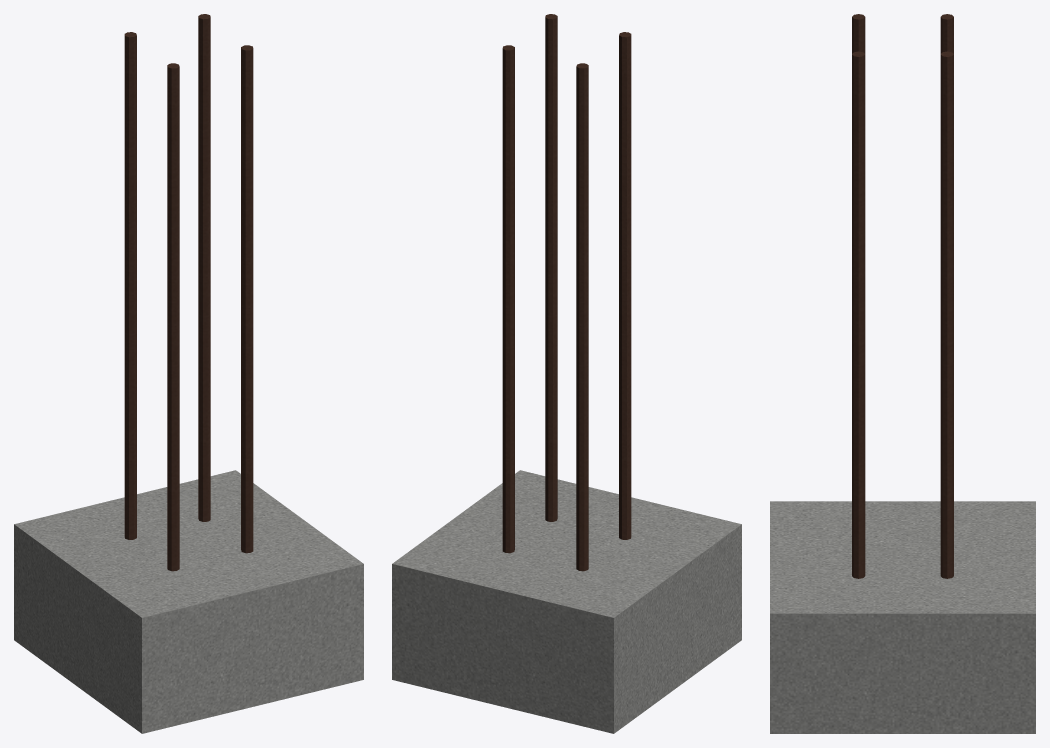
Rendered from estate_pillar_1b.glb.
3 renders of one model, left to right at view 1: azimuth 30°, elevation 25°; view 2: azimuth 150°, elevation 25°; view 3: azimuth 270°, elevation 25°, orthographic. The views are drawn at different scales.
Visible parts, largest first — view 1: Cube, Cylinder, Cylinder.002, Cylinder.003, Cylinder.001; view 2: Cube, Cylinder.001, Cylinder.003, Cylinder.002, Cylinder; view 3: Cube, Cylinder.002, Cylinder.003, Cylinder, Cylinder.001.
Boxes of the visible parts, left/top/right/bottom form: Cube: left=14, top=470, right=363, bottom=733; Cylinder: left=167, top=63, right=179, bottom=571; Cylinder.002: left=241, top=45, right=253, bottom=553; Cylinder.003: left=198, top=14, right=210, bottom=521; Cylinder.001: left=124, top=32, right=136, bottom=539; Cube: left=392, top=470, right=741, bottom=733; Cylinder.001: left=576, top=63, right=588, bottom=571; Cylinder.003: left=502, top=45, right=514, bottom=553; Cylinder.002: left=545, top=14, right=557, bottom=521; Cylinder: left=619, top=32, right=631, bottom=539; Cube: left=770, top=501, right=1035, bottom=733; Cylinder.002: left=852, top=51, right=865, bottom=578; Cylinder.003: left=940, top=51, right=953, bottom=578; Cylinder: left=852, top=14, right=865, bottom=53; Cylinder.001: left=940, top=14, right=953, bottom=53.
Size of the model in its own units: 0.6 by 1.6 by 0.6.
Materials: 2 (2 with a texture image).
